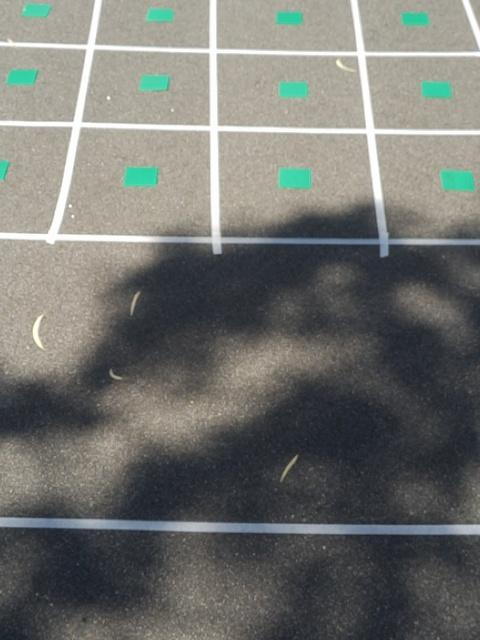weed: (439, 167, 478, 194), (277, 163, 313, 190), (123, 163, 161, 188), (136, 72, 178, 92), (277, 78, 309, 101), (4, 67, 40, 86), (143, 4, 177, 24), (421, 79, 451, 100), (277, 6, 304, 27), (401, 10, 430, 29), (21, 1, 53, 18), (0, 156, 14, 182)
